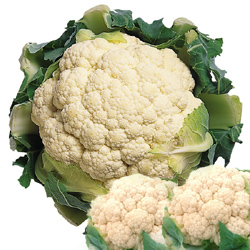cauliflower: (32, 33, 202, 191), (163, 161, 249, 249), (85, 173, 182, 249)
